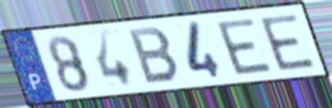4: (185, 18, 227, 82), (99, 28, 136, 89)
8: (46, 34, 92, 94)
B: (126, 25, 183, 86)
E: (256, 12, 319, 73), (213, 16, 275, 77)
